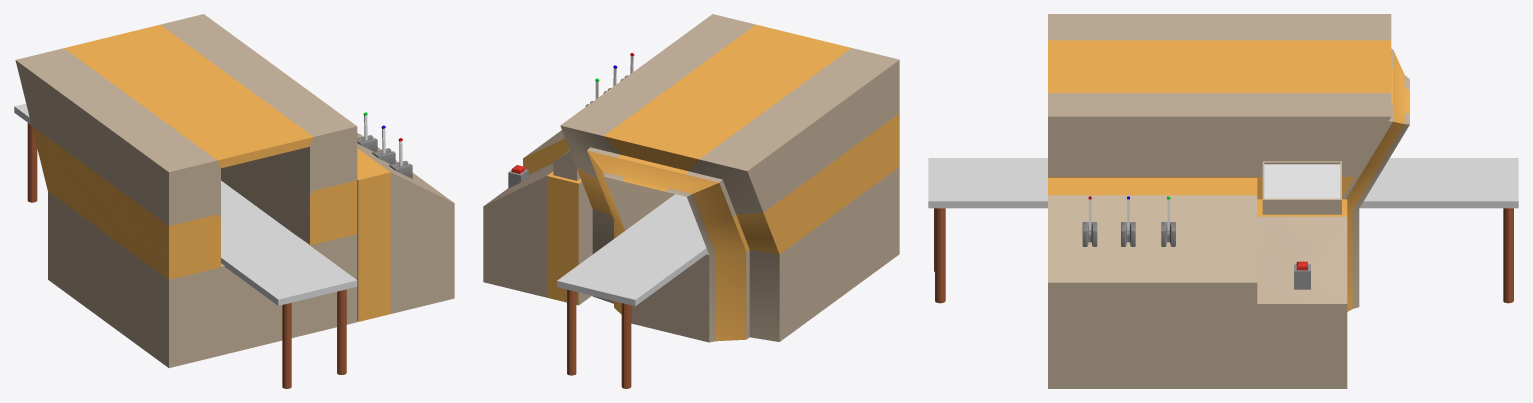
File: machine_1.fbx
The picture shows the model from 3 angles, left to right: view 1: azimuth 30°, elevation 25°; view 2: azimuth 150°, elevation 25°; view 3: azimuth 270°, elevation 25°; orthographic projection. The views are drawn at different scales.
Visible parts, largest first — view 1: Cube.020; view 2: Cube.020; view 3: Cube.020.
Boxes of the visible parts, box(x1,y1,x2,y2) form: Cube.020: box(14, 14, 454, 388); Cube.020: box(483, 14, 899, 388); Cube.020: box(928, 14, 1518, 388).
Size of the model in its own units: 116 by 76.3 by 186.
